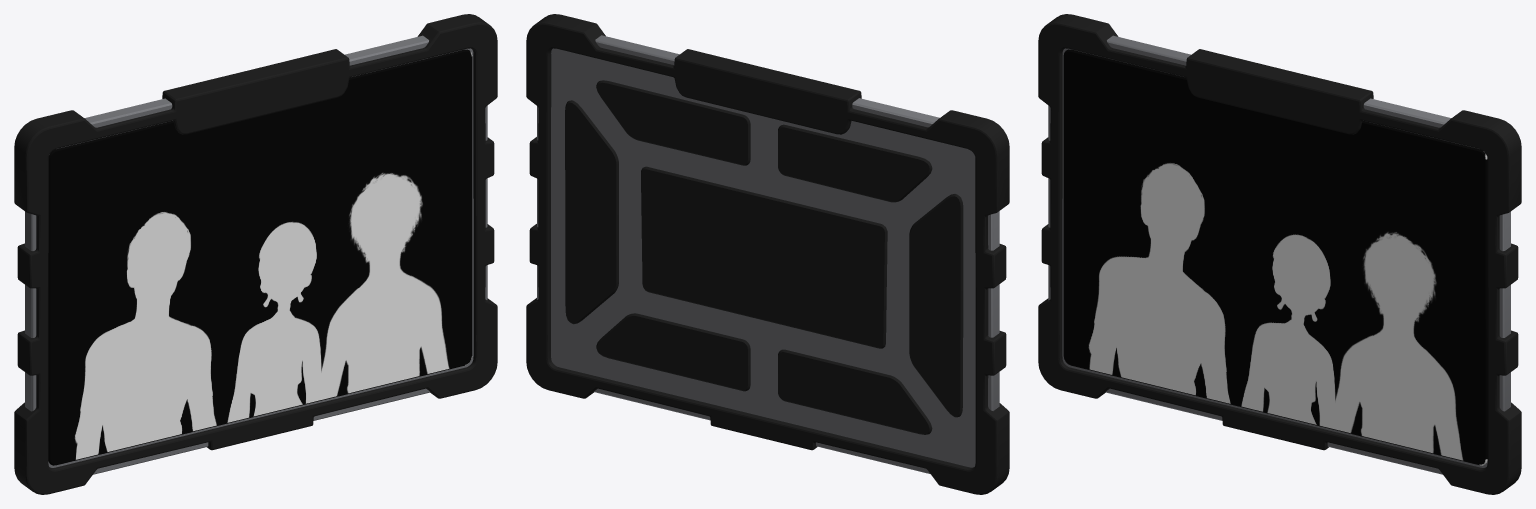
Rendered from Tablet_Family.fbx.
3 views of the same model, side by side, from view 1: azimuth 30°, elevation 25°; view 2: azimuth 150°, elevation 25°; view 3: azimuth 330°, elevation 25° (orthographic).
Parts seen in each view (by area): view 1: ekran, korpus2, korpus; view 2: zadsten, korpus, korpus2; view 3: ekran, korpus2, korpus.
Part boxes in pixels (x1,y1,x2,y2): ekran: (48,49,472,465); korpus2: (14,14,497,494); korpus: (25,35,487,474); zadsten: (565,80,963,434); korpus: (537,35,999,473); korpus2: (526,14,1009,494); ekran: (1063,49,1487,465); korpus2: (1038,14,1521,494); korpus: (1048,35,1510,474).
Size of the model in its own units: 352 by 262 by 16.95.
